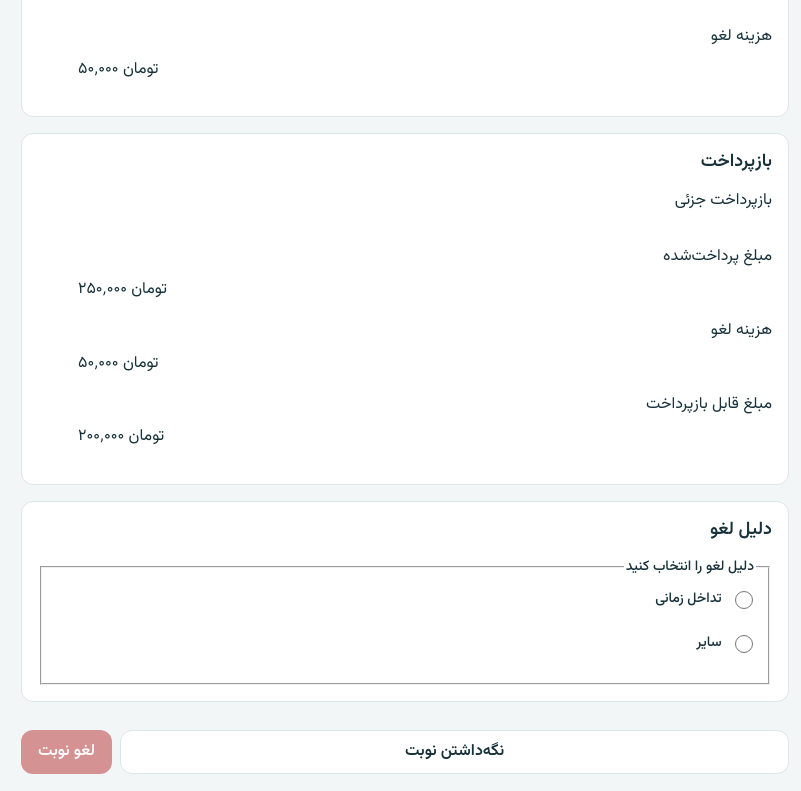
Test: AppointmentCancellationScreen › shows success with separate refund status after backend confirmation
(page scrolled)
Expected: the heading "دلیل لغو" is shown, [710,516,772,544]
Step 1. Click the radio button labelled "تداخل زمانی" → (744, 600), box [735,591,753,609]
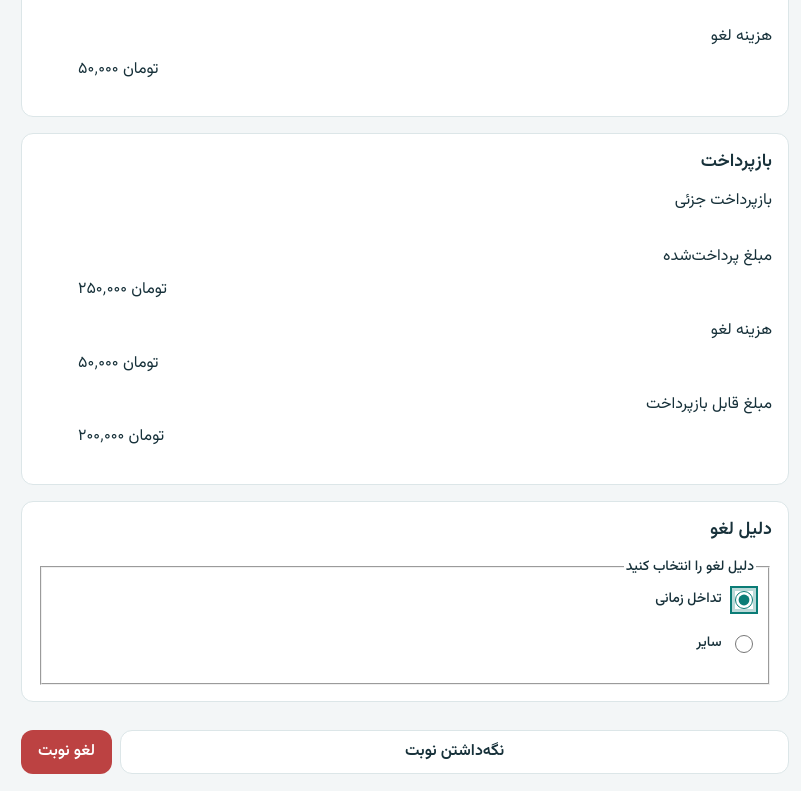
Step 2. Click the button "لغو نوبت" → (66, 752), box [21,730,112,774]
(page scrolled)
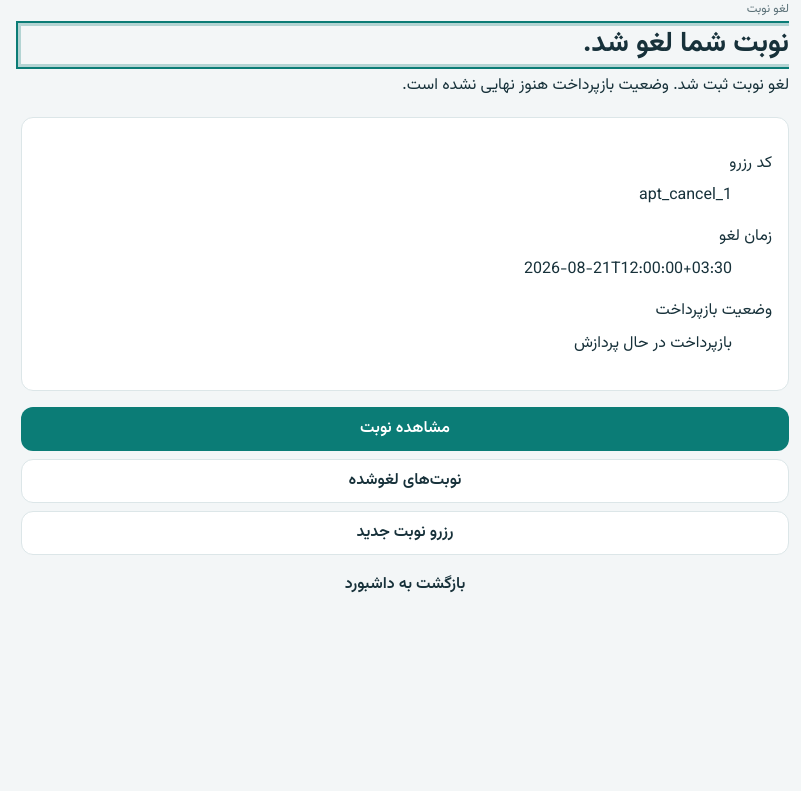
Expected: the heading "نوبت شما لغو شد." is shown, [21,26,789,64]
Expected: the text "بازپرداخت در حال پردازش" is shown, [574,331,732,356]
Expected: the text "۲۰۰٬۰۰۰ تومان" is gone
